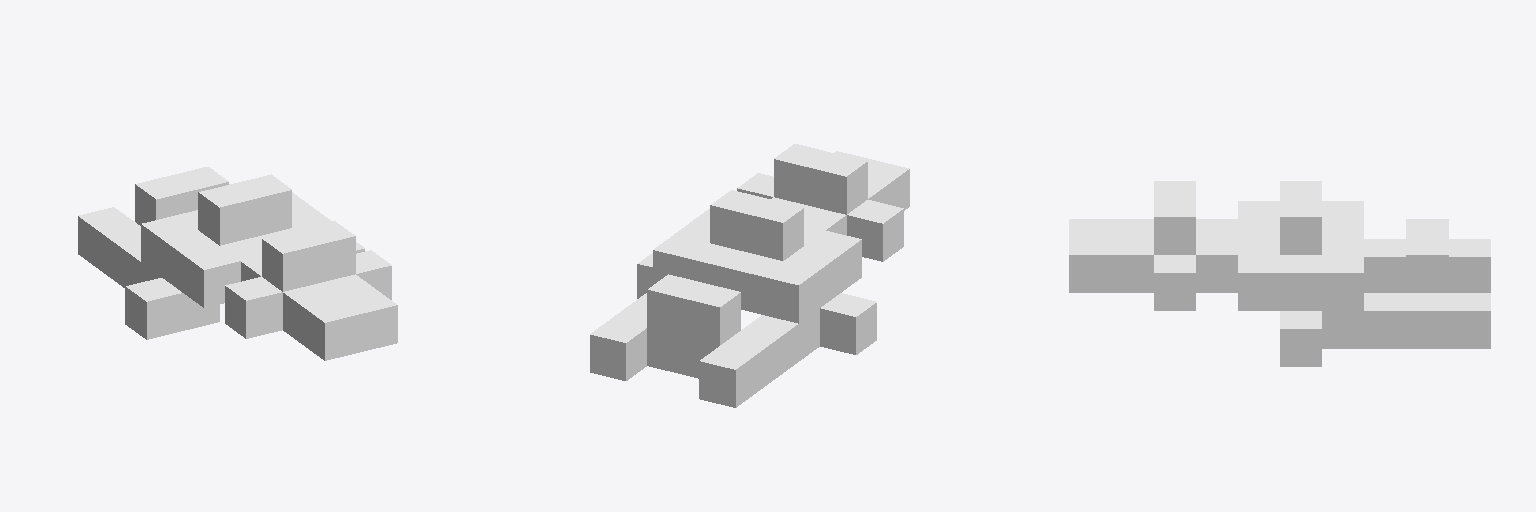
The model's file is Pushka.obj.
3 views of the same model, side by side, from view 1: azimuth 30°, elevation 25°; view 2: azimuth 150°, elevation 25°; view 3: azimuth 270°, elevation 25° (orthographic).
Parts seen in each view (by area): view 1: Pushka; view 2: Pushka; view 3: Pushka.
Boxes of the visible parts, box(x1,y1,x2,y2) form: Pushka: box(78, 167, 397, 360); Pushka: box(590, 144, 909, 407); Pushka: box(1069, 181, 1490, 366).
Bounding box in the file's own units: 6 × 3 × 10.